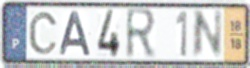1: (174, 10, 188, 59)
4: (96, 8, 122, 60)
A: (58, 10, 93, 57)
C: (27, 11, 59, 57)
N: (190, 9, 224, 61)
R: (124, 6, 159, 62)
